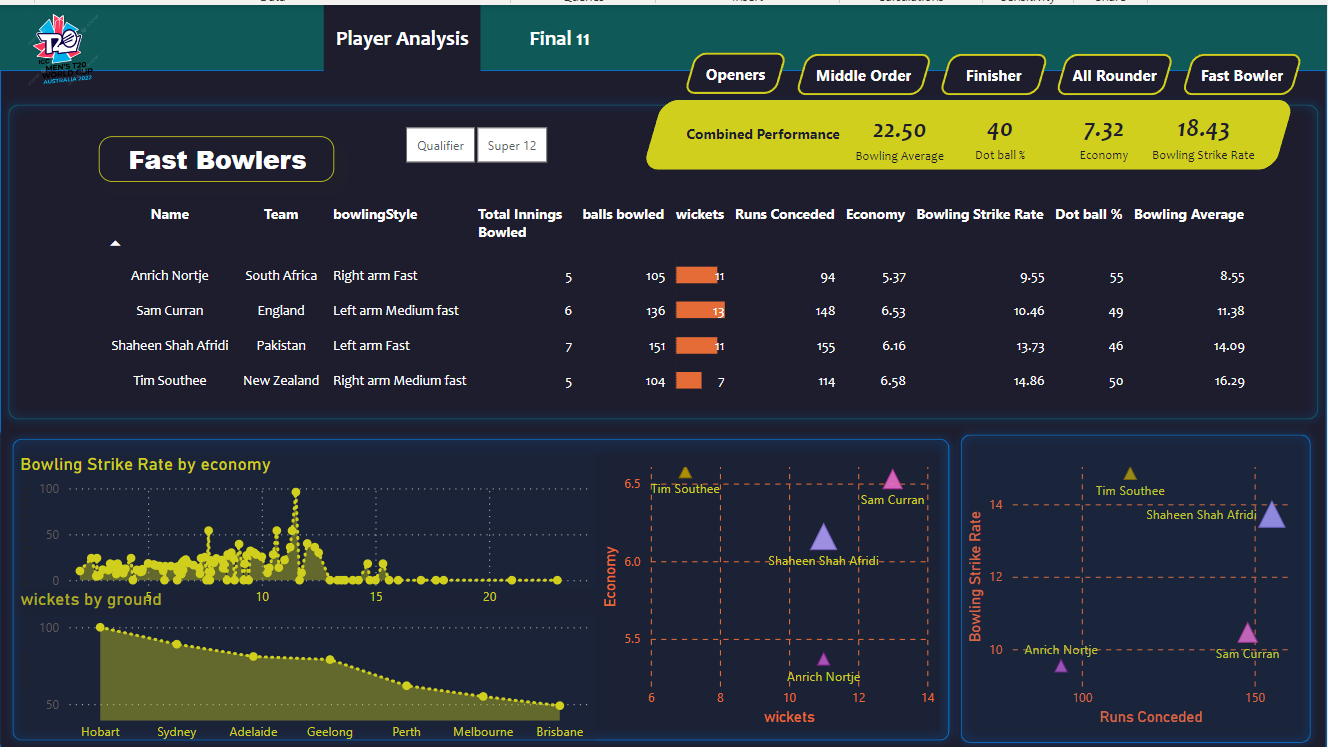

Layout of this report page (visuals, bound fields, positions):
{"tool":"powerbi","page":{"name":"FAST BOWLERS","canvas":[1280,720],"ordinal":4},"visuals":[{"type":"shape","box":[0,62.5,1280,657.5],"z":0},{"type":"shape","box":[0,87.5,1280,320],"z":1000},{"type":"tableEx","fields":{"Values":["player_info.name","player_info.team","player_info.bowlingStyle","Key_Measures.Total Innings Bowled","Key_Measures.balls bowled","Key_Measures.wickets","Key_Measures.Runs Conceded","Key_Measures.Economy","Key_Measures.Bowling Strike Rate","Key_Measures.Dot ball %","Key_Measures.Bowling Average"]},"box":[95,177.5,1131.2,228.8],"z":2000},{"type":"scatterChart","fields":{"Category":["player_info.name"],"Series":["player_info.name"],"Size":["Key_Measures.Total Runs"],"Y":["Key_Measures.Bowling Strike Rate"],"X":["Key_Measures.Runs Conceded"]},"box":[927.5,432.5,331.2,267.5],"z":3000},{"type":"shape","box":[918.8,406.2,353.8,313.8],"z":4000},{"type":"shape","box":[620,91.2,628.8,67.5],"z":5000},{"type":"shape","box":[637.5,102.5,196.2,43.8],"z":6000},{"type":"shape","box":[0,406.2,926.2,313.8],"z":7000},{"type":"actionButton","box":[660,46.2,100,40],"z":8000},{"type":"actionButton","box":[766.6,46.6,132.5,40],"z":9000},{"type":"actionButton","box":[905.6,46.9,106.2,40],"z":10000},{"type":"actionButton","box":[1018.4,47.2,115,40],"z":11000},{"type":"actionButton","box":[1140,47.5,117.5,40],"z":12000},{"type":"slicer","fields":{"Values":["match_summary.Stage"]},"box":[365,111.2,186.2,47.5],"z":13000},{"type":"image","box":[0,0,122.5,87.5],"z":14000},{"type":"textbox","title":"Fast Bowlers","box":[95,126.2,227.5,43.8],"z":15000},{"type":"actionButton","title":"Player Analysis","box":[312.5,0,151.2,63.8],"z":16000},{"type":"actionButton","title":"Player Analysis","box":[463.8,0,151.2,62.5],"z":17000},{"type":"areaChart","fields":{"Y":["Key_Measures.wickets"],"Category":["match_summary.ground"]},"box":[15,563.8,560,156.2],"z":18000},{"type":"card","fields":{"Values":["Key_Measures.Bowling Average"]},"box":[802.5,92.5,132.5,67.5],"z":19000},{"type":"card","fields":{"Values":["Key_Measures.Bowling Strike Rate"]},"box":[1095,91.2,132.5,67.5],"z":20000},{"type":"card","fields":{"Values":["Key_Measures.Dot ball %"]},"box":[895,91.2,140,67.5],"z":21000},{"type":"card","fields":{"Values":["Key_Measures.Economy"]},"box":[995,91.2,140,67.5],"z":22000},{"type":"scatterChart","fields":{"Category":["player_info.name"],"Series":["player_info.name"],"Size":["Key_Measures.Total Runs"],"Y":["Key_Measures.Economy"],"X":["Key_Measures.wickets"]},"box":[575,432.5,331.2,267.5],"z":23000},{"type":"areaChart","fields":{"Category":["bowling_summary.economy"],"Y":["Key_Measures.Bowling Strike Rate"]},"box":[15,432.5,560,156.2],"z":24000}]}

Visuals, with their boxes in screenshot pixels (x1, y1, x2, y2), scaled from the page's 1280x720 canvas onto the 1328x747 screenshot:
shape: left=0, top=65, right=1327, bottom=746
shape: left=0, top=91, right=1327, bottom=423
tableEx - player_info.name x player_info.team: left=99, top=184, right=1272, bottom=422
scatterChart - player_info.name x player_info.name: left=962, top=449, right=1306, bottom=726
shape: left=953, top=421, right=1320, bottom=746
shape: left=643, top=95, right=1296, bottom=165
shape: left=661, top=106, right=865, bottom=152
shape: left=0, top=421, right=961, bottom=746
actionButton: left=685, top=48, right=789, bottom=89
actionButton: left=795, top=48, right=933, bottom=90
actionButton: left=940, top=49, right=1050, bottom=90
actionButton: left=1057, top=49, right=1176, bottom=90
actionButton: left=1183, top=49, right=1305, bottom=91
slicer - match_summary.Stage: left=379, top=115, right=572, bottom=165
image: left=0, top=0, right=127, bottom=91
"Fast Bowlers" textbox: left=99, top=131, right=335, bottom=176
"Player Analysis" actionButton: left=324, top=0, right=481, bottom=66
"Player Analysis" actionButton: left=481, top=0, right=638, bottom=65
areaChart - Key_Measures.wickets x match_summary.ground: left=16, top=585, right=597, bottom=746
card - Key_Measures.Bowling Average: left=833, top=96, right=970, bottom=166
card - Key_Measures.Bowling Strike Rate: left=1136, top=95, right=1274, bottom=165
card - Key_Measures.Dot ball %: left=929, top=95, right=1074, bottom=165
card - Key_Measures.Economy: left=1032, top=95, right=1178, bottom=165
scatterChart - player_info.name x player_info.name: left=597, top=449, right=940, bottom=726
areaChart - bowling_summary.economy x Key_Measures.Bowling Strike Rate: left=16, top=449, right=597, bottom=611
